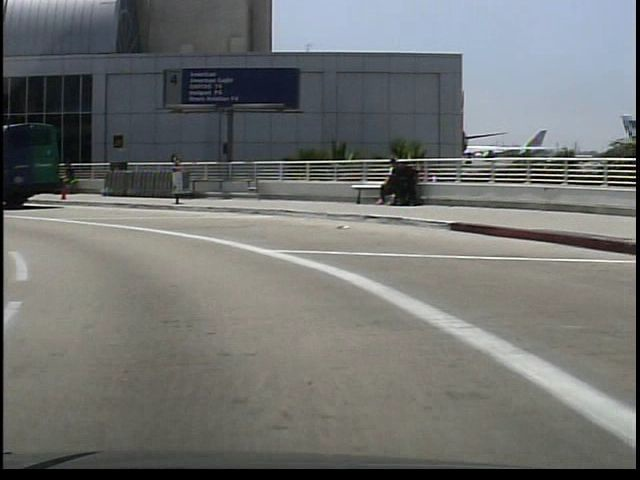person: (59, 159, 78, 198)
